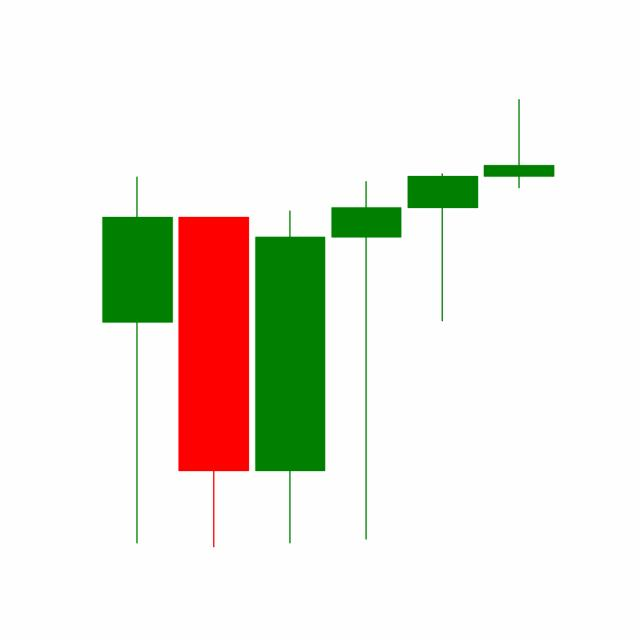Hanging Man: (403, 171, 481, 323)
